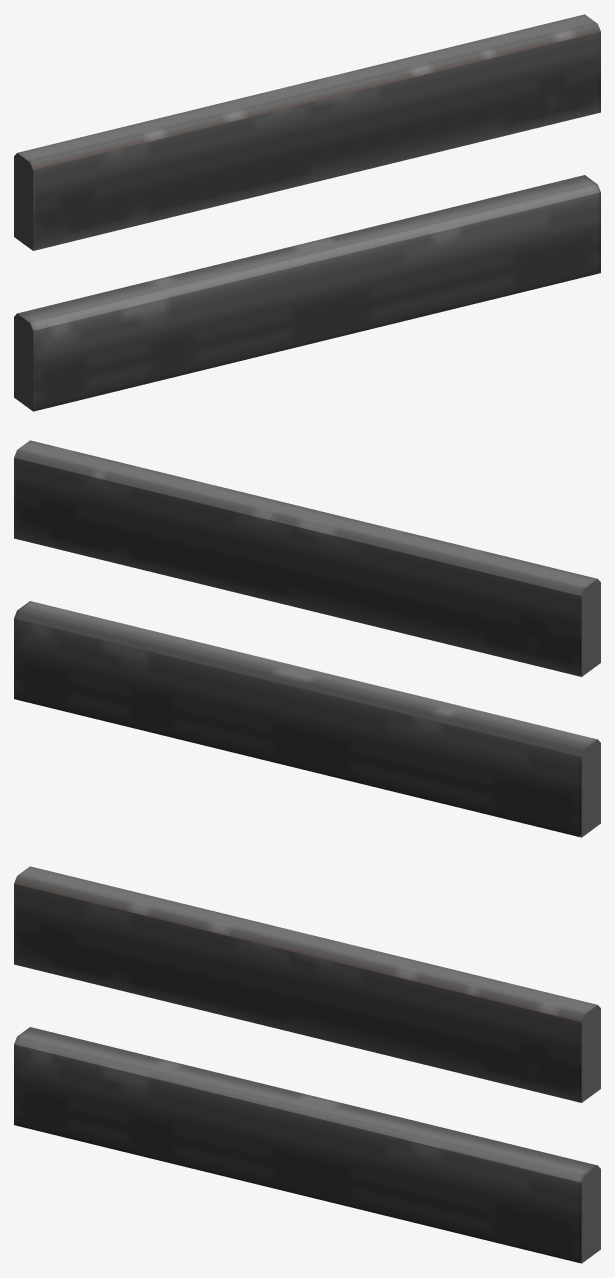
Rendered from fenceboard_lightwood_long_0421x03.obj.
3 renders of one model, top to bottom at view 1: azimuth 30°, elevation 25°; view 2: azimuth 150°, elevation 25°; view 3: azimuth 330°, elevation 25°, orthographic.
Parts seen in each view (by area): view 1: fenceboard_lightwood_long.001; view 2: fenceboard_lightwood_long.001; view 3: fenceboard_lightwood_long.001.
Boxes of the visible parts, x1,y1,x2,y2 form: fenceboard_lightwood_long.001: (14, 14, 600, 411); fenceboard_lightwood_long.001: (14, 440, 600, 837); fenceboard_lightwood_long.001: (14, 866, 600, 1263).
Size of the model in its own units: 4.35 by 1.81 by 0.2551.
